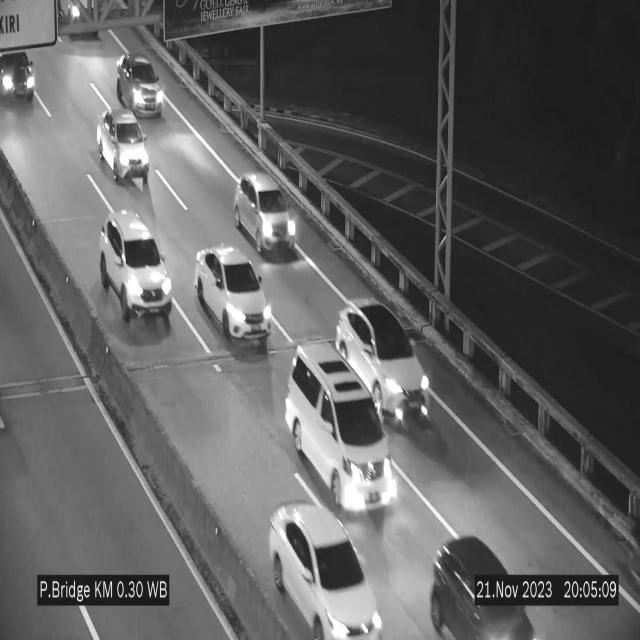Car: (285, 342, 395, 513), (269, 502, 379, 640), (336, 300, 430, 421), (100, 211, 172, 326), (195, 247, 273, 349), (234, 173, 296, 255), (96, 109, 150, 185), (117, 55, 163, 117)
